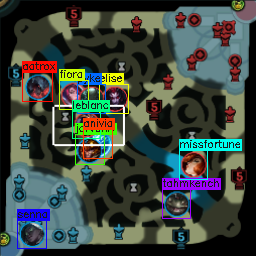aatrox: (25, 74, 50, 99)
anivia: (86, 131, 110, 154)
elise: (102, 86, 127, 111)
fiora: (61, 83, 83, 105)
jarvaniv: (77, 139, 100, 162)
leblanc: (74, 111, 99, 136)
missfortune: (180, 151, 206, 176)
pyke: (79, 85, 105, 109)
senna: (20, 222, 44, 245)
tahmkench: (163, 191, 189, 216)
